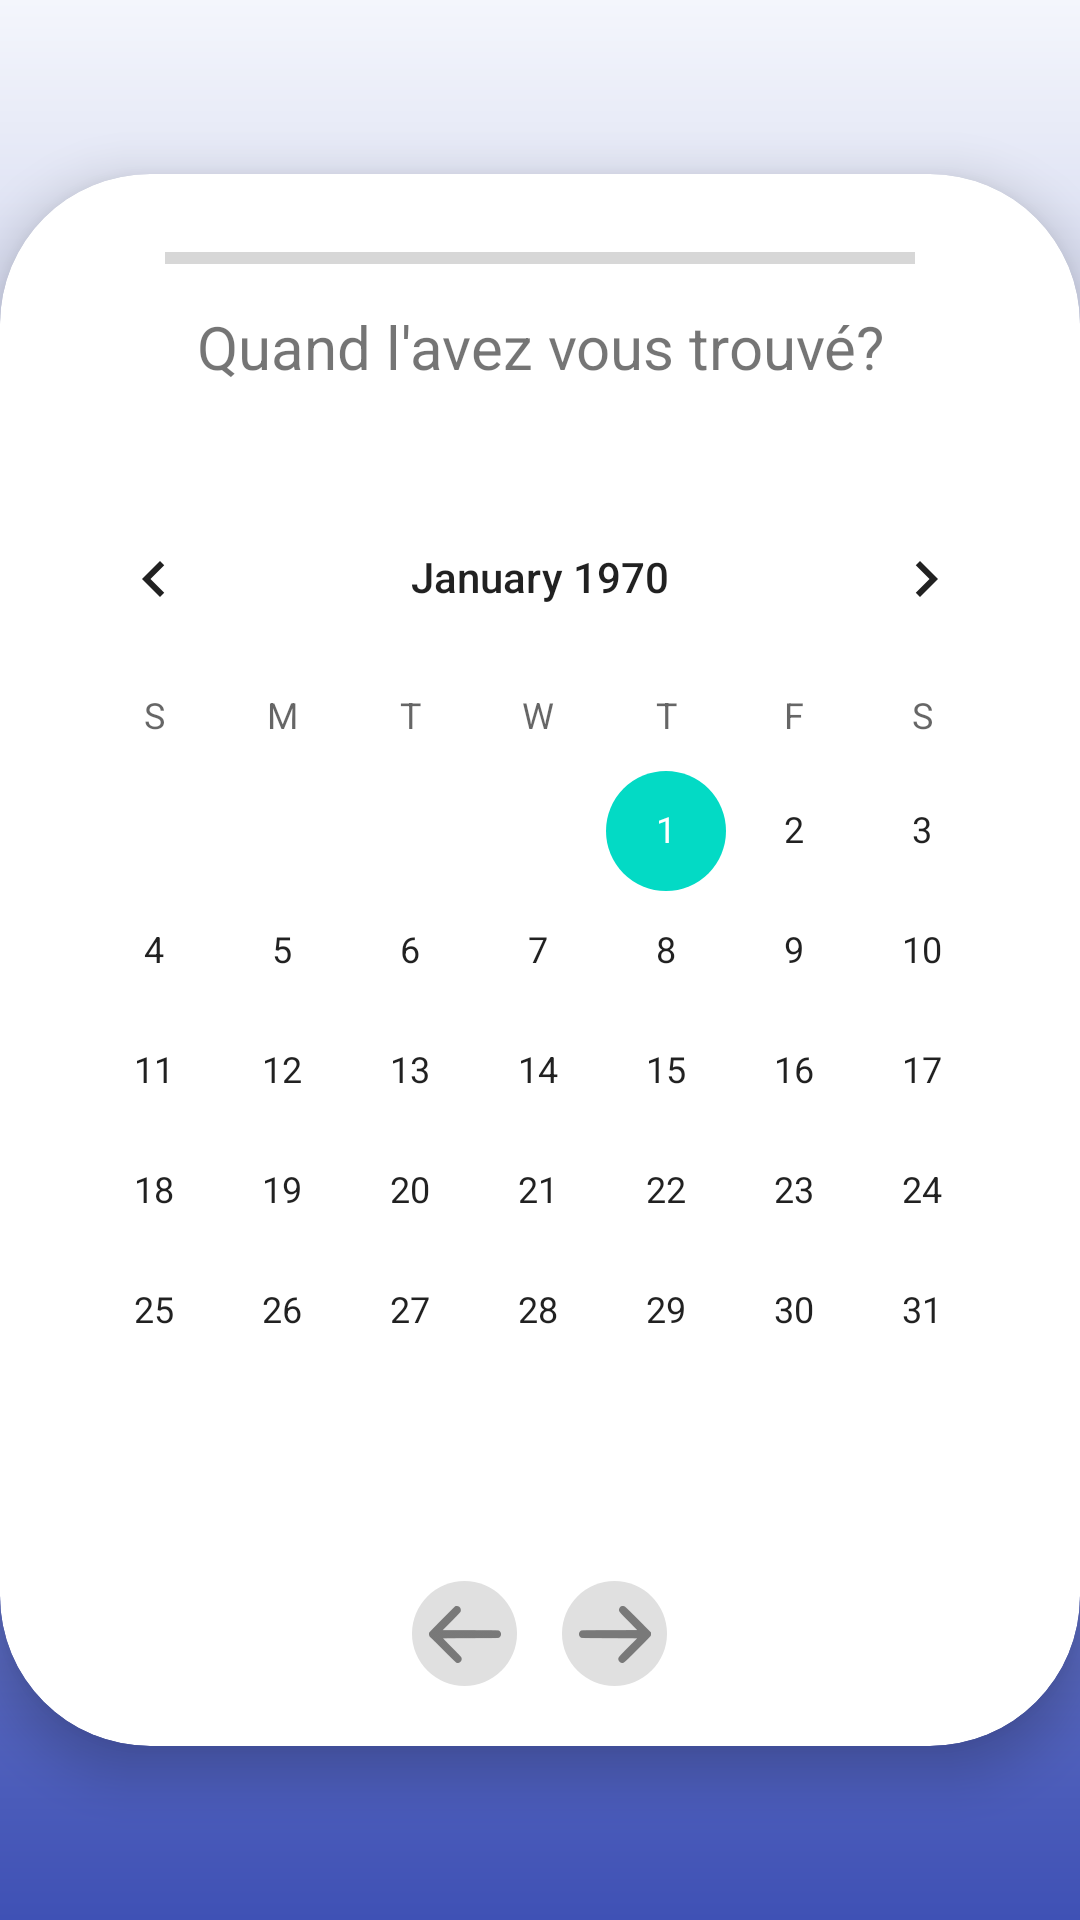

Named icons in this screenshot (1080px x 1920px) and their centers, (x,y):
arrows left: (464,1633)
arrows right: (614,1633)
